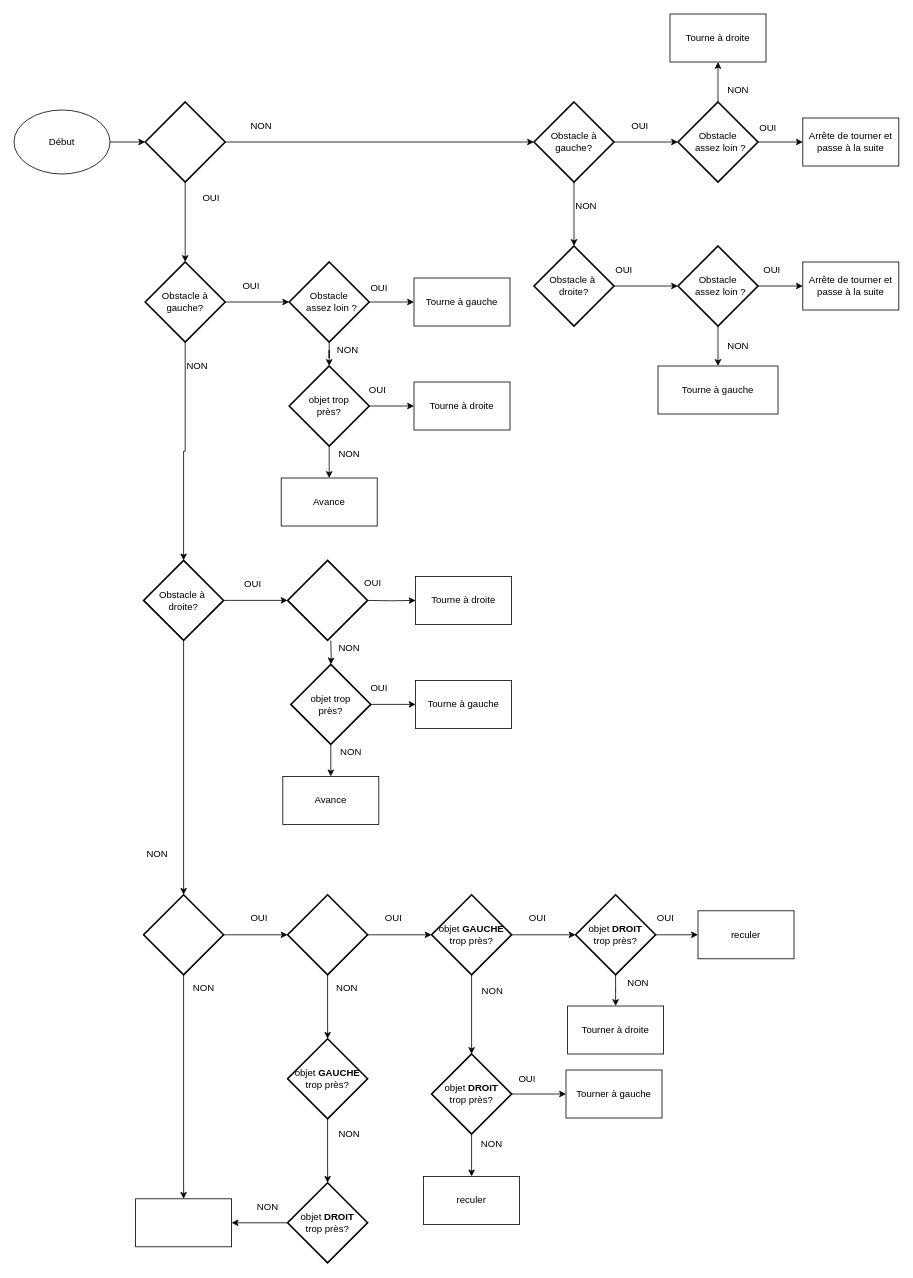
Image size: 913x1278. Some labels were removed from this diagram. The centre of each missing label's shape, as x and y in pixels:
"avancer" goes at (x=183, y=1222).
"ETAT ROBOT == Avancer" goes at (x=183, y=934).
"objet AVANT trop près?" goes at (x=327, y=934).
"Obstacle assez loin?" goes at (x=327, y=600).
"Parallèle à l'objet?" goes at (x=185, y=141).
